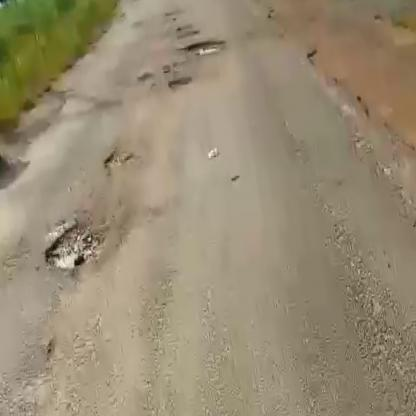pothole: (37, 210, 115, 281), (101, 152, 141, 178), (181, 34, 223, 56), (168, 72, 196, 95)
